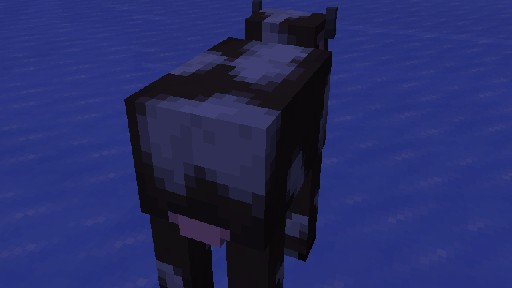cow: (123, 0, 337, 288)
